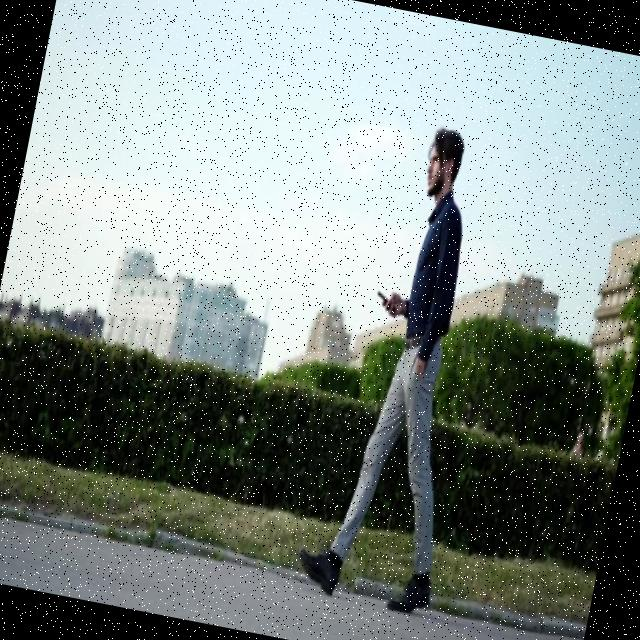Person: (292, 117, 518, 618)
